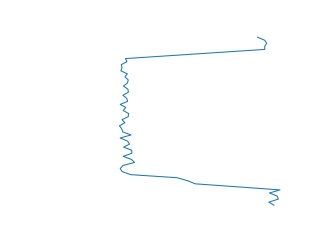distributaryChannelFill: (114, 36, 284, 209)
